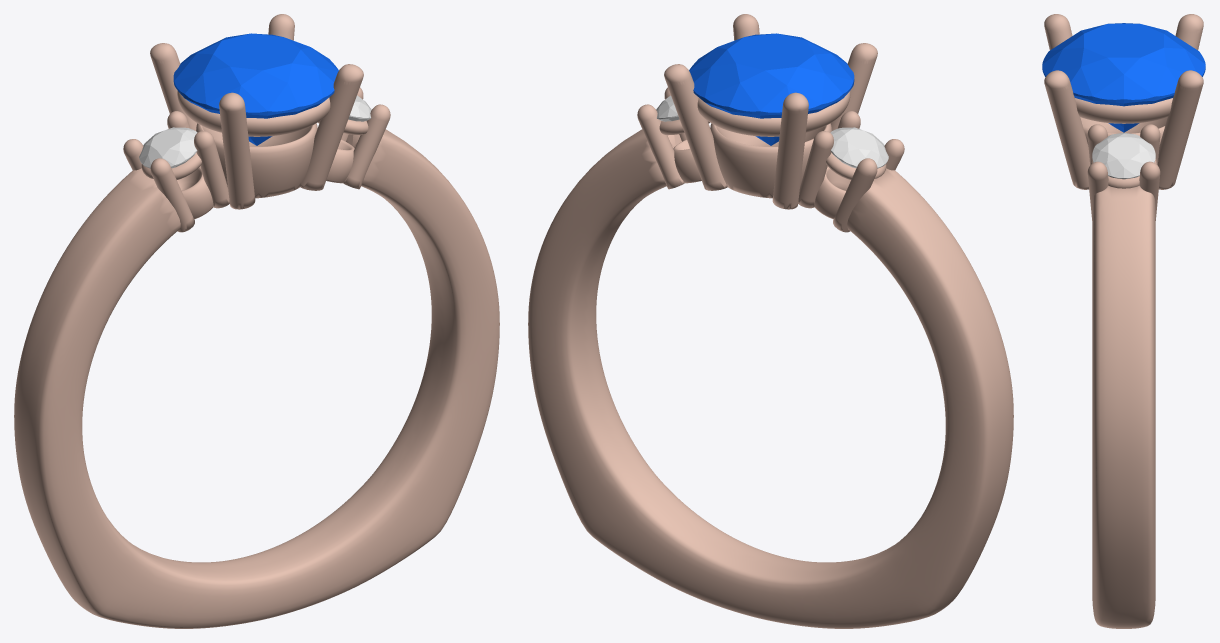
Rendered from bluesapphire-round-rosegold-4prong-europeanshank-2stone.glb.
3 renders of one model, left to right at view 1: azimuth 30°, elevation 25°; view 2: azimuth 150°, elevation 25°; view 3: azimuth 270°, elevation 25°, orthographic. The views are drawn at different scales.
Visible parts, largest first — view 1: metal, stone, side.001; view 2: metal, stone, side.001; view 3: metal, stone, side.
Part boxes in pixels (x1,y1,x2,y2): metal: (14, 14, 499, 628); stone: (173, 33, 338, 145); side.001: (139, 127, 197, 168); metal: (528, 14, 1013, 628); stone: (689, 33, 854, 145); side.001: (830, 127, 888, 168); metal: (1044, 14, 1203, 628); stone: (1042, 23, 1205, 132); side: (1092, 133, 1155, 179).
Bounding box in the file's own units: 20.71 × 23.81 × 6.44.
